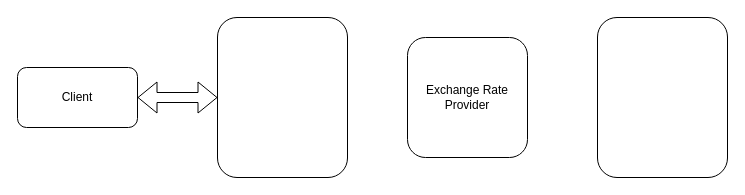
Image size: 745x195. Some labels were removed from this diagram. The shapes that lost their labels are listed below. From the top down, each one's centre as x and y in pixels, then its label:
the point at 282,97: Exchange Rate API
the point at 662,97: NBP API
